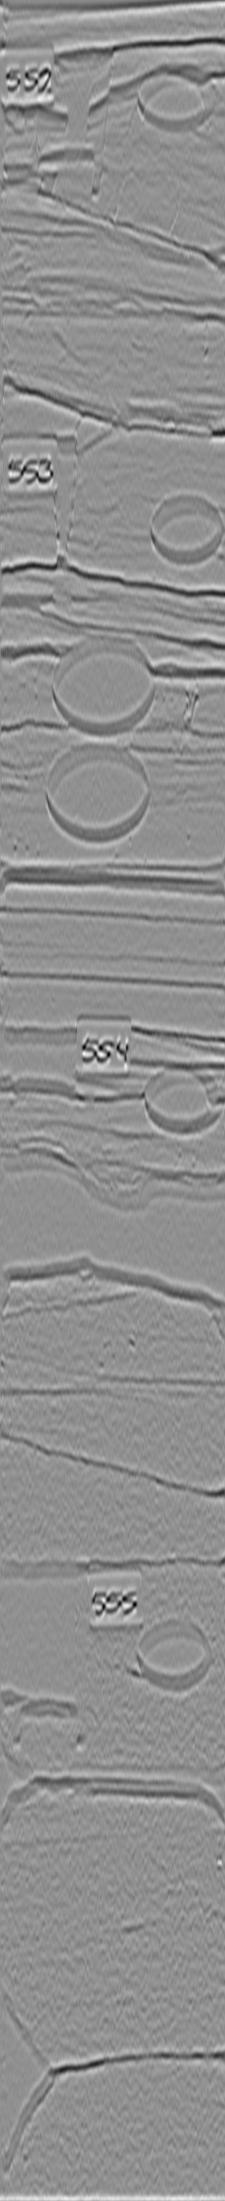hplug: (127, 1610, 222, 1697), (138, 480, 225, 568), (136, 1053, 225, 1140), (129, 55, 222, 135)
scal: (45, 626, 167, 740), (45, 740, 156, 846)
vplug: (4, 1545, 90, 1746), (27, 42, 112, 199), (27, 425, 96, 567), (4, 1011, 86, 1108)
